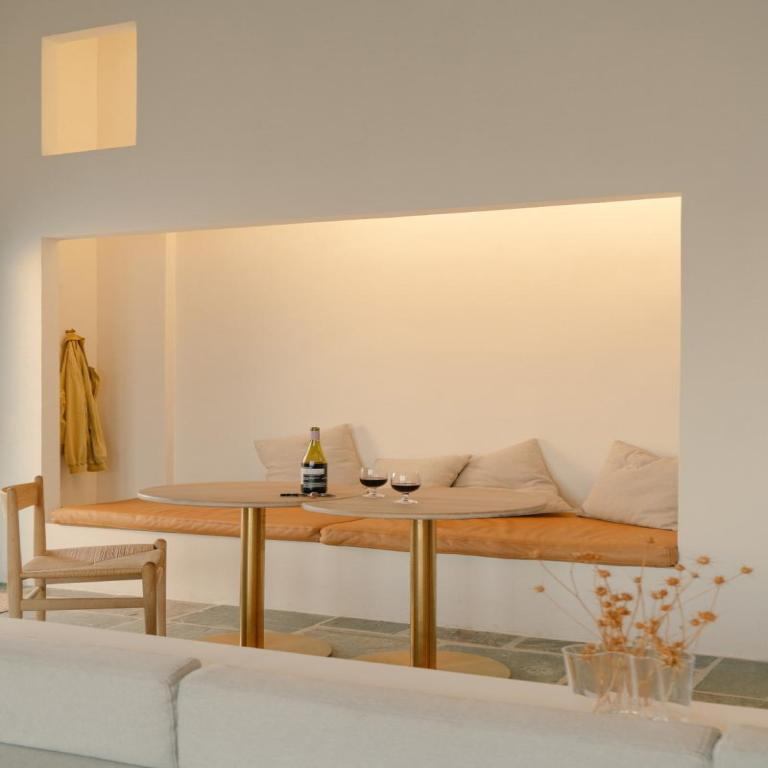white-walls: (218, 10, 738, 208)
